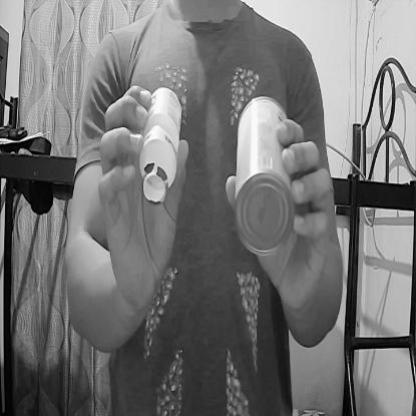Plastic Bottle: (131, 74, 187, 203)
